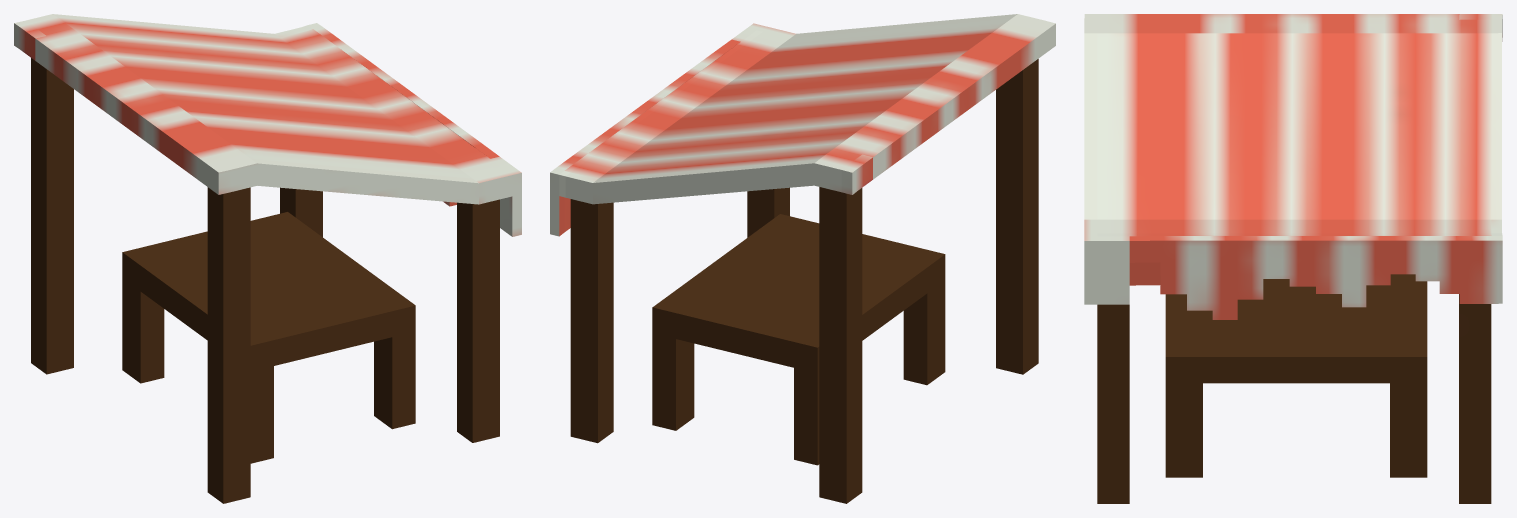
File: Jualan.fbx
3 renders of one model, left to right at view 1: azimuth 30°, elevation 25°; view 2: azimuth 150°, elevation 25°; view 3: azimuth 270°, elevation 25°, orthographic. The views are drawn at different scales.
Visible parts, largest first — view 1: Cube, Cube.001; view 2: Cube, Cube.001; view 3: Cube, Cube.001.
Boxes of the visible parts, bbox=[...] form: Cube: bbox=[14, 14, 521, 503]; Cube.001: bbox=[122, 212, 415, 463]; Cube: bbox=[550, 14, 1055, 503]; Cube.001: bbox=[652, 214, 945, 465]; Cube: bbox=[1084, 14, 1502, 503]; Cube.001: bbox=[1165, 274, 1427, 477].
Size of the model in its own units: 1087 by 1159 by 1269.
